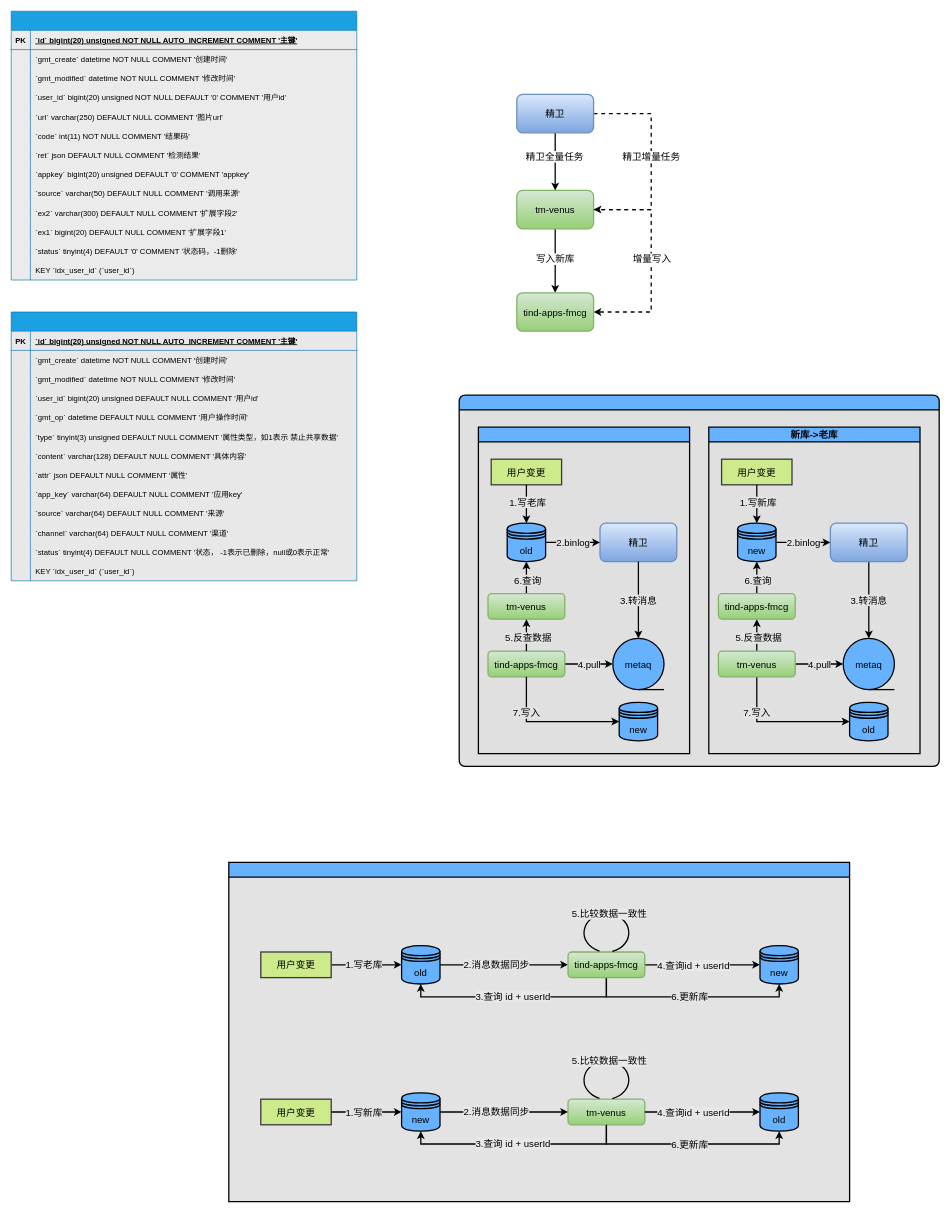
The diagram is 951 pixels wide and 1213 high, and some of its shapes have lost their labels. The shapes that lost their labels are listed below. From the top down, each one's box as (x1, y1, x2, y2) in pixels, then its label:
(11, 11, 357, 280): user_skin
(11, 311, 357, 581): user_attr
(477, 426, 690, 754): 老库->新库
(458, 394, 940, 767): 增量数据迁移
(228, 861, 850, 1202): 写入
